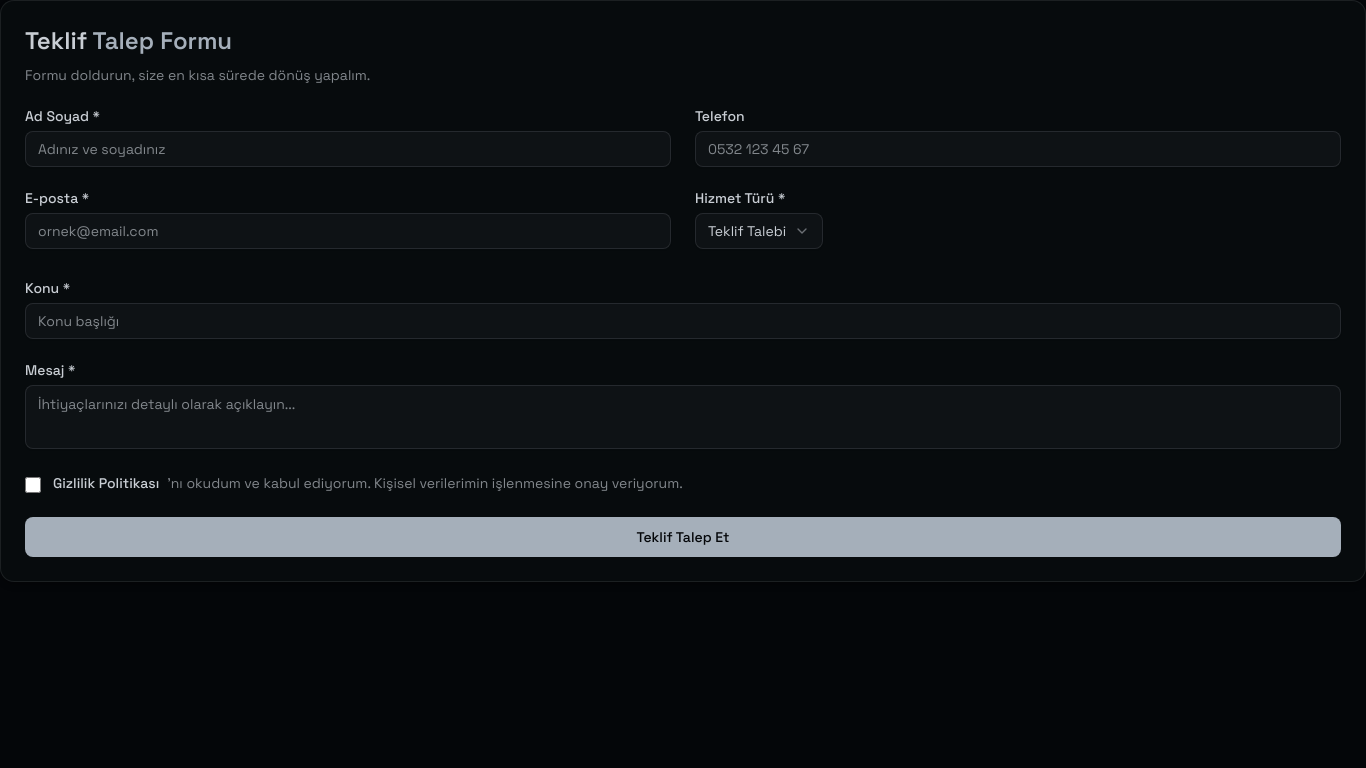
Test: ContactForm Component › shows validation errors for empty required fields
The width and height of the screenshot is (1366, 768).
Note: Check the privacy checkbox first
Step 1. Click the checkbox labelled "Gizlilik Politikası" → [33, 485], box [25,477,41,493]
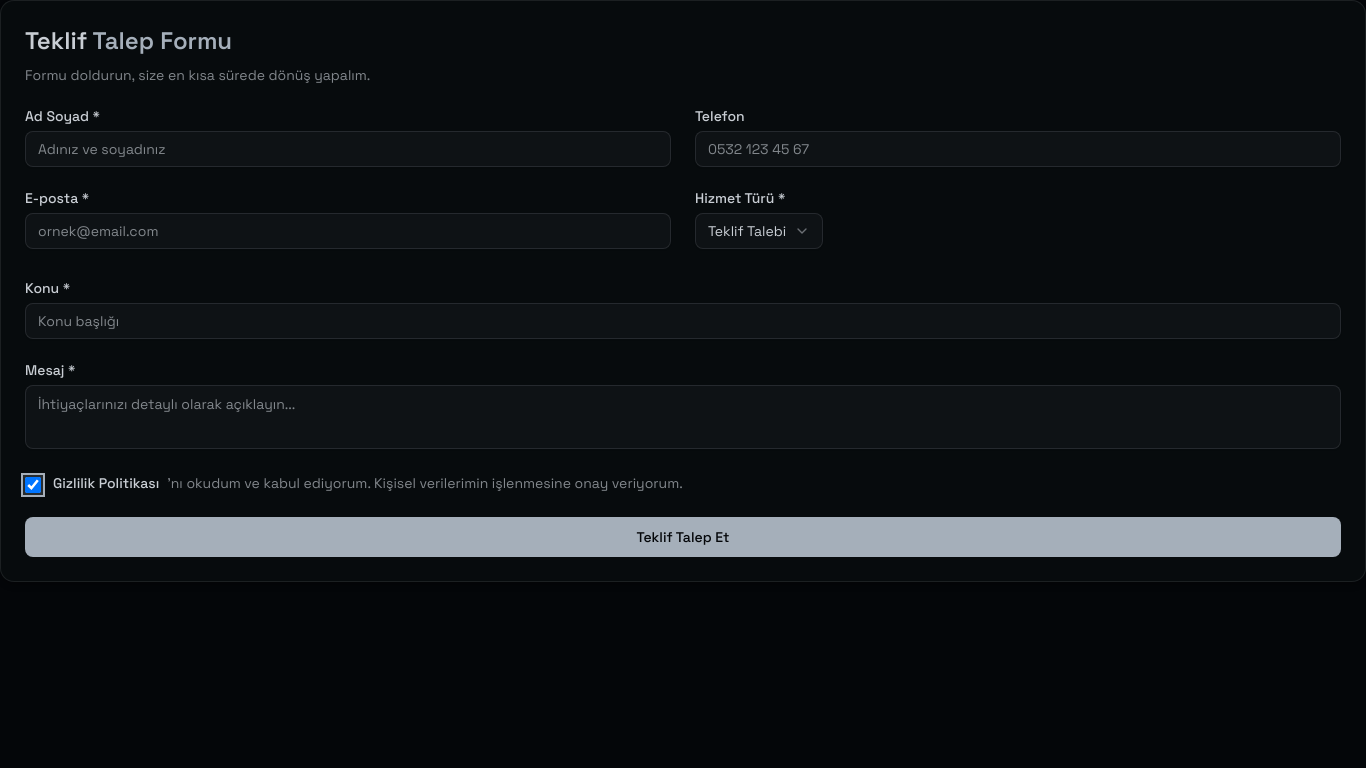
Note: Submit empty form
Step 2. Click the button "Teklif Talep Et" → [683, 537], box [25,517,1341,557]
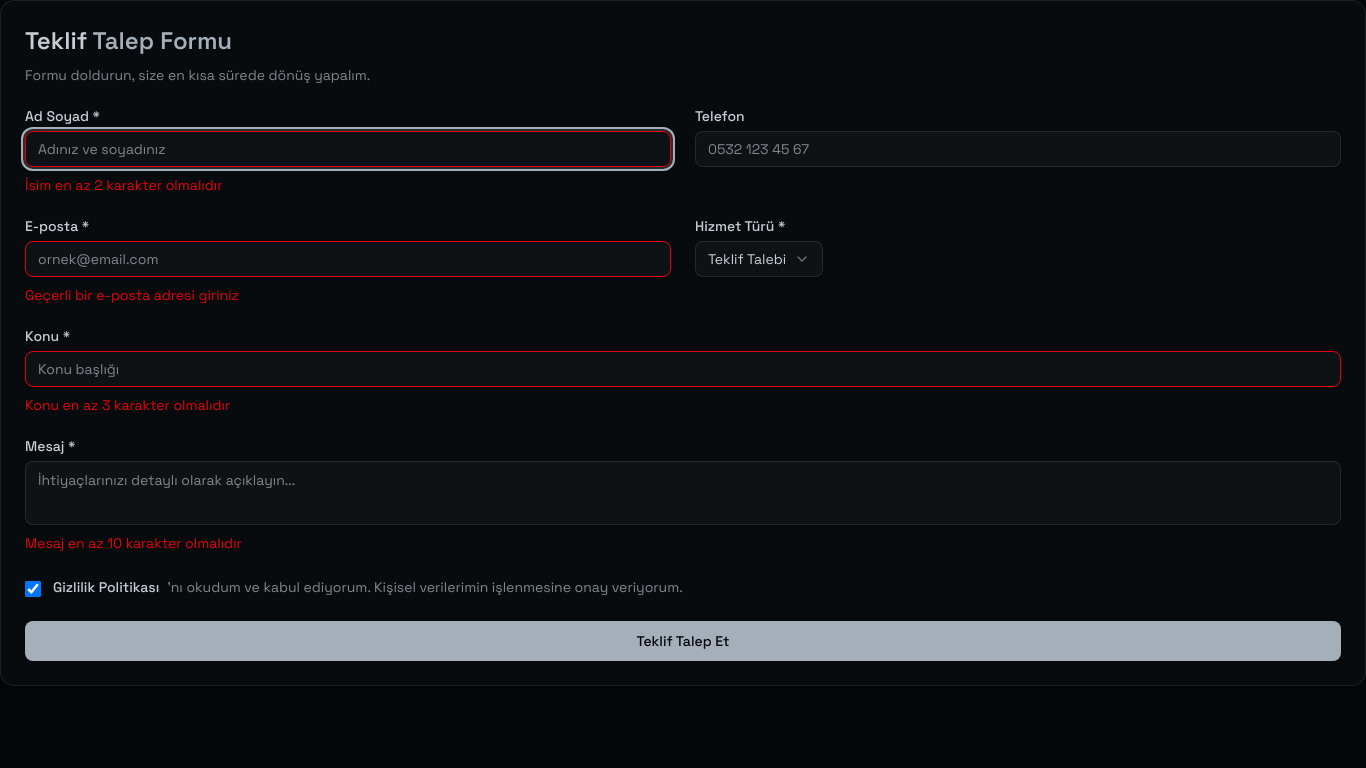
Expected: the text "İsim en az 2 karakter olmalıdır" is shown, [25,176,222,194]
